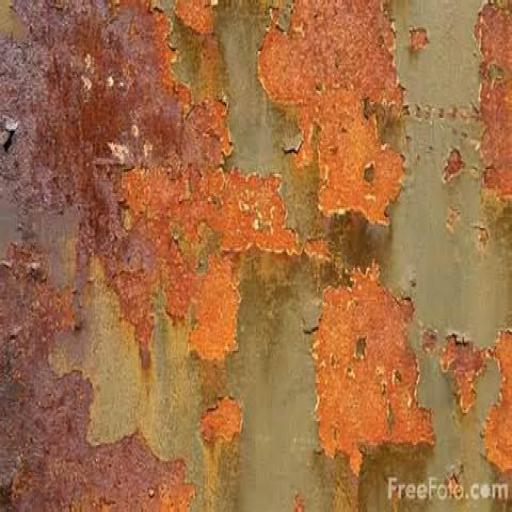segmentation: (0, 0, 299, 370), (0, 321, 185, 510), (294, 269, 434, 477), (307, 84, 408, 230), (474, 1, 511, 199), (428, 335, 490, 412), (484, 330, 511, 471)
